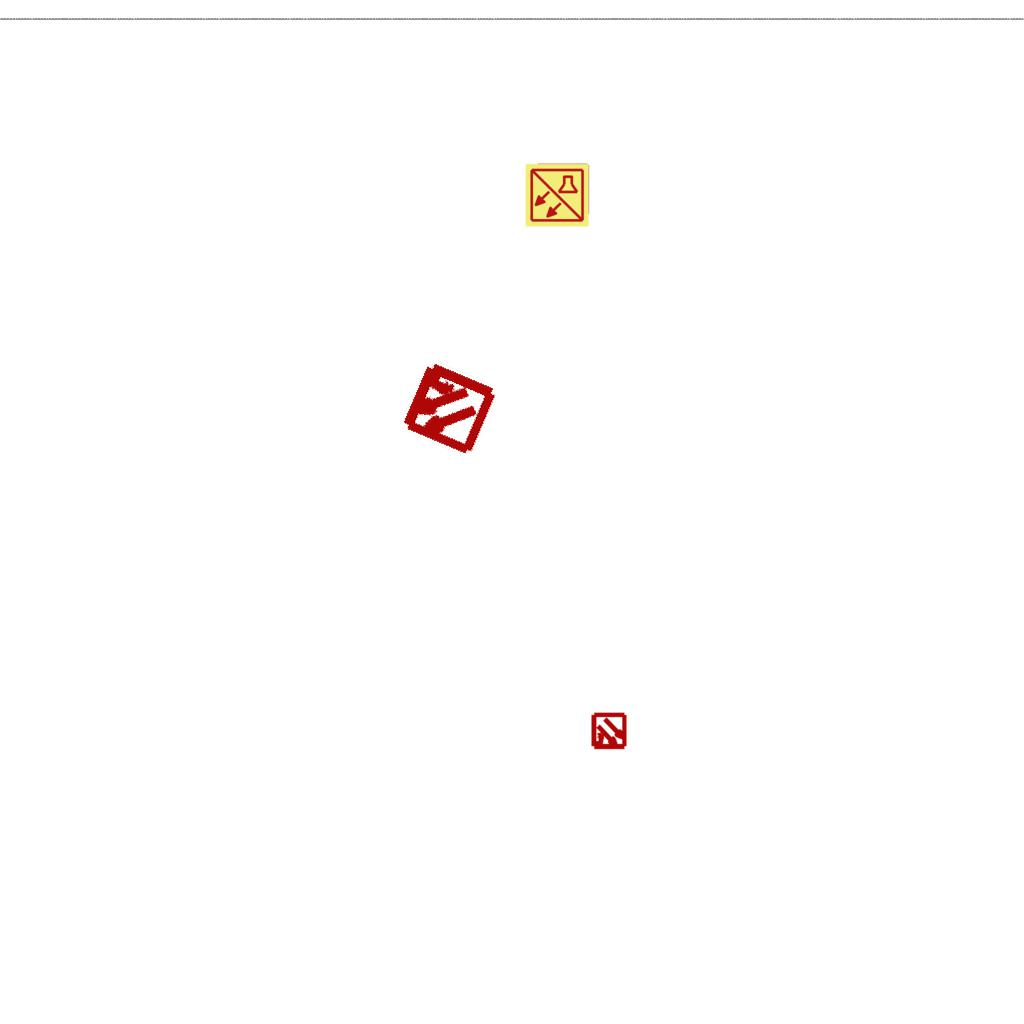OKW_Multisensormelder_(Kombination_optischer_Rauch-Kahlenmonoxid_Waerme-Melder): (524, 162, 590, 228)
OT_Multisensormelder_(Kombination_RMO_WMD): (373, 333, 522, 482), (581, 704, 637, 760)
